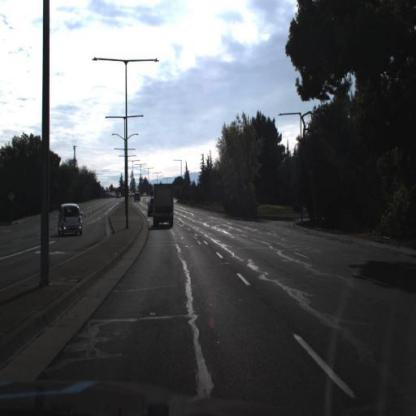car: (58, 203, 83, 237), (147, 196, 156, 220), (149, 196, 157, 217), (134, 193, 142, 204)
truck: (153, 182, 176, 229)
